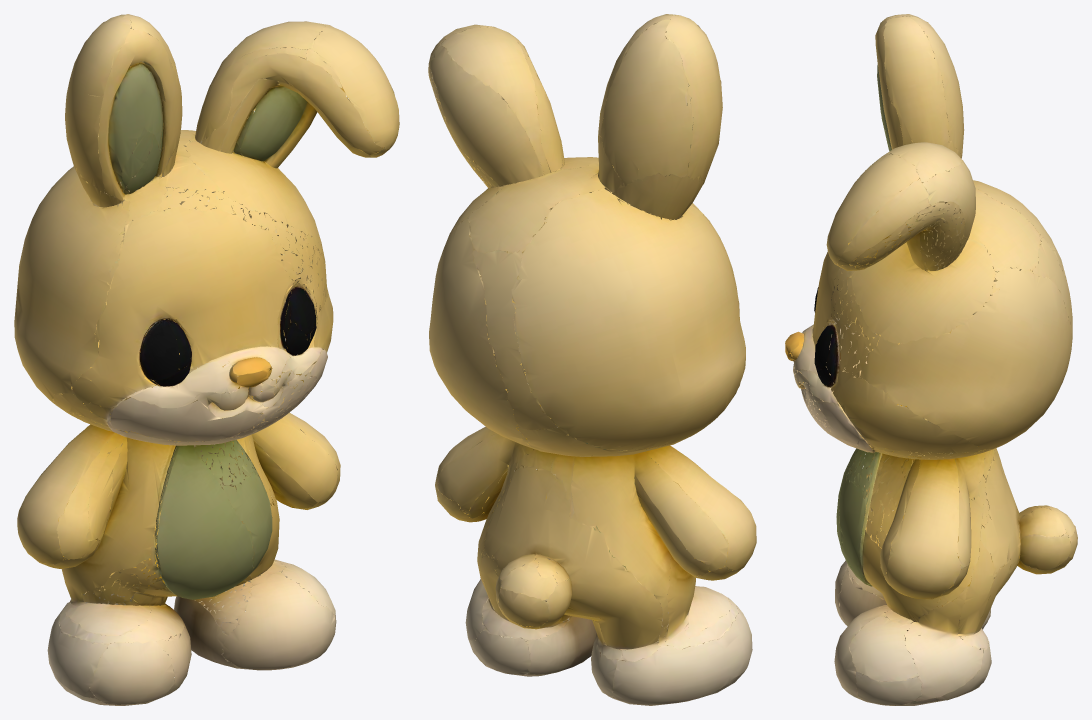
Rendered from tiago-coelho.glb.
3 views of the same model, side by side, from view 1: azimuth 30°, elevation 25°; view 2: azimuth 150°, elevation 25°; view 3: azimuth 270°, elevation 25° (orthographic). The views are drawn at different scales.
Visible parts, largest first — view 1: Mesh_0; view 2: Mesh_0; view 3: Mesh_0.
Boxes of the visible parts, x1,y1,x2,y2 form: Mesh_0: (14, 14, 399, 705); Mesh_0: (428, 14, 756, 705); Mesh_0: (785, 14, 1077, 705).
Bounding box in the file's own units: 0.5893 × 1.11 × 0.4822.
Materials: 1 (1 with a texture image).
